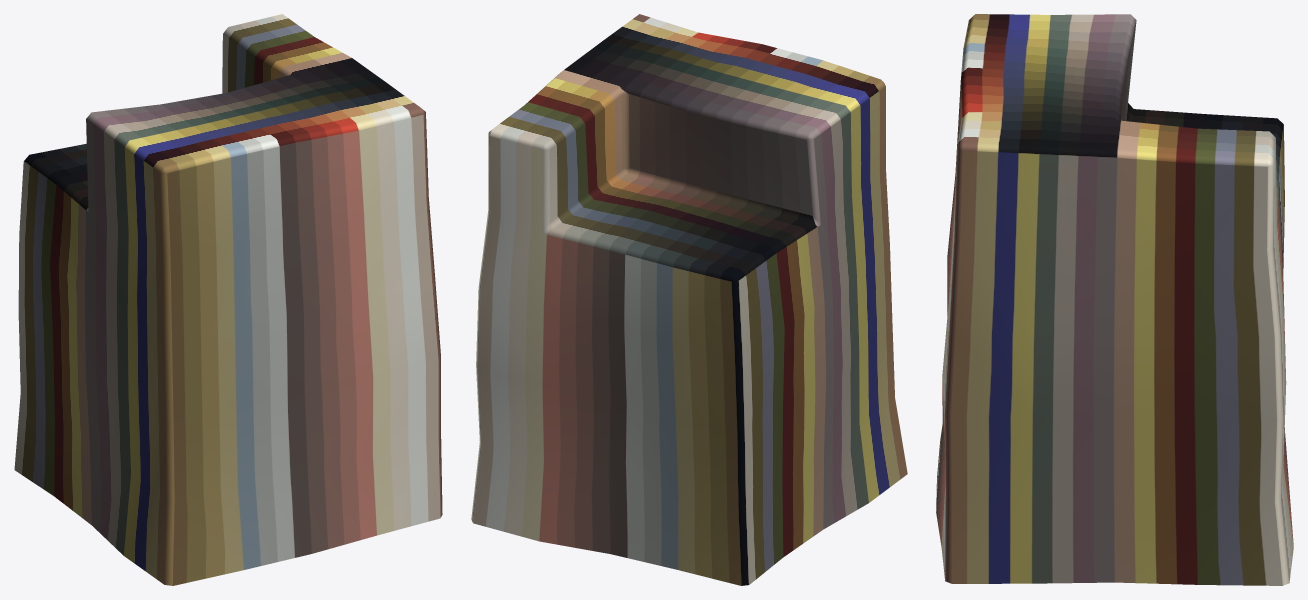
Rendered from MSH_Building_013.glb.
3 views of the same model, side by side, from view 1: azimuth 30°, elevation 25°; view 2: azimuth 150°, elevation 25°; view 3: azimuth 270°, elevation 25° (orthographic). The views are drawn at different scales.
Visible parts, largest first — view 1: Base.007; view 2: Base.007; view 3: Base.007.
Part boxes in pixels (bbox=[...]): Base.007: bbox=[14, 14, 442, 585]; Base.007: bbox=[471, 14, 907, 585]; Base.007: bbox=[936, 14, 1293, 585].
Bounding box in the file's own units: 5.31 × 7.22 × 5.39.
Materials: 1 (1 with a texture image).
